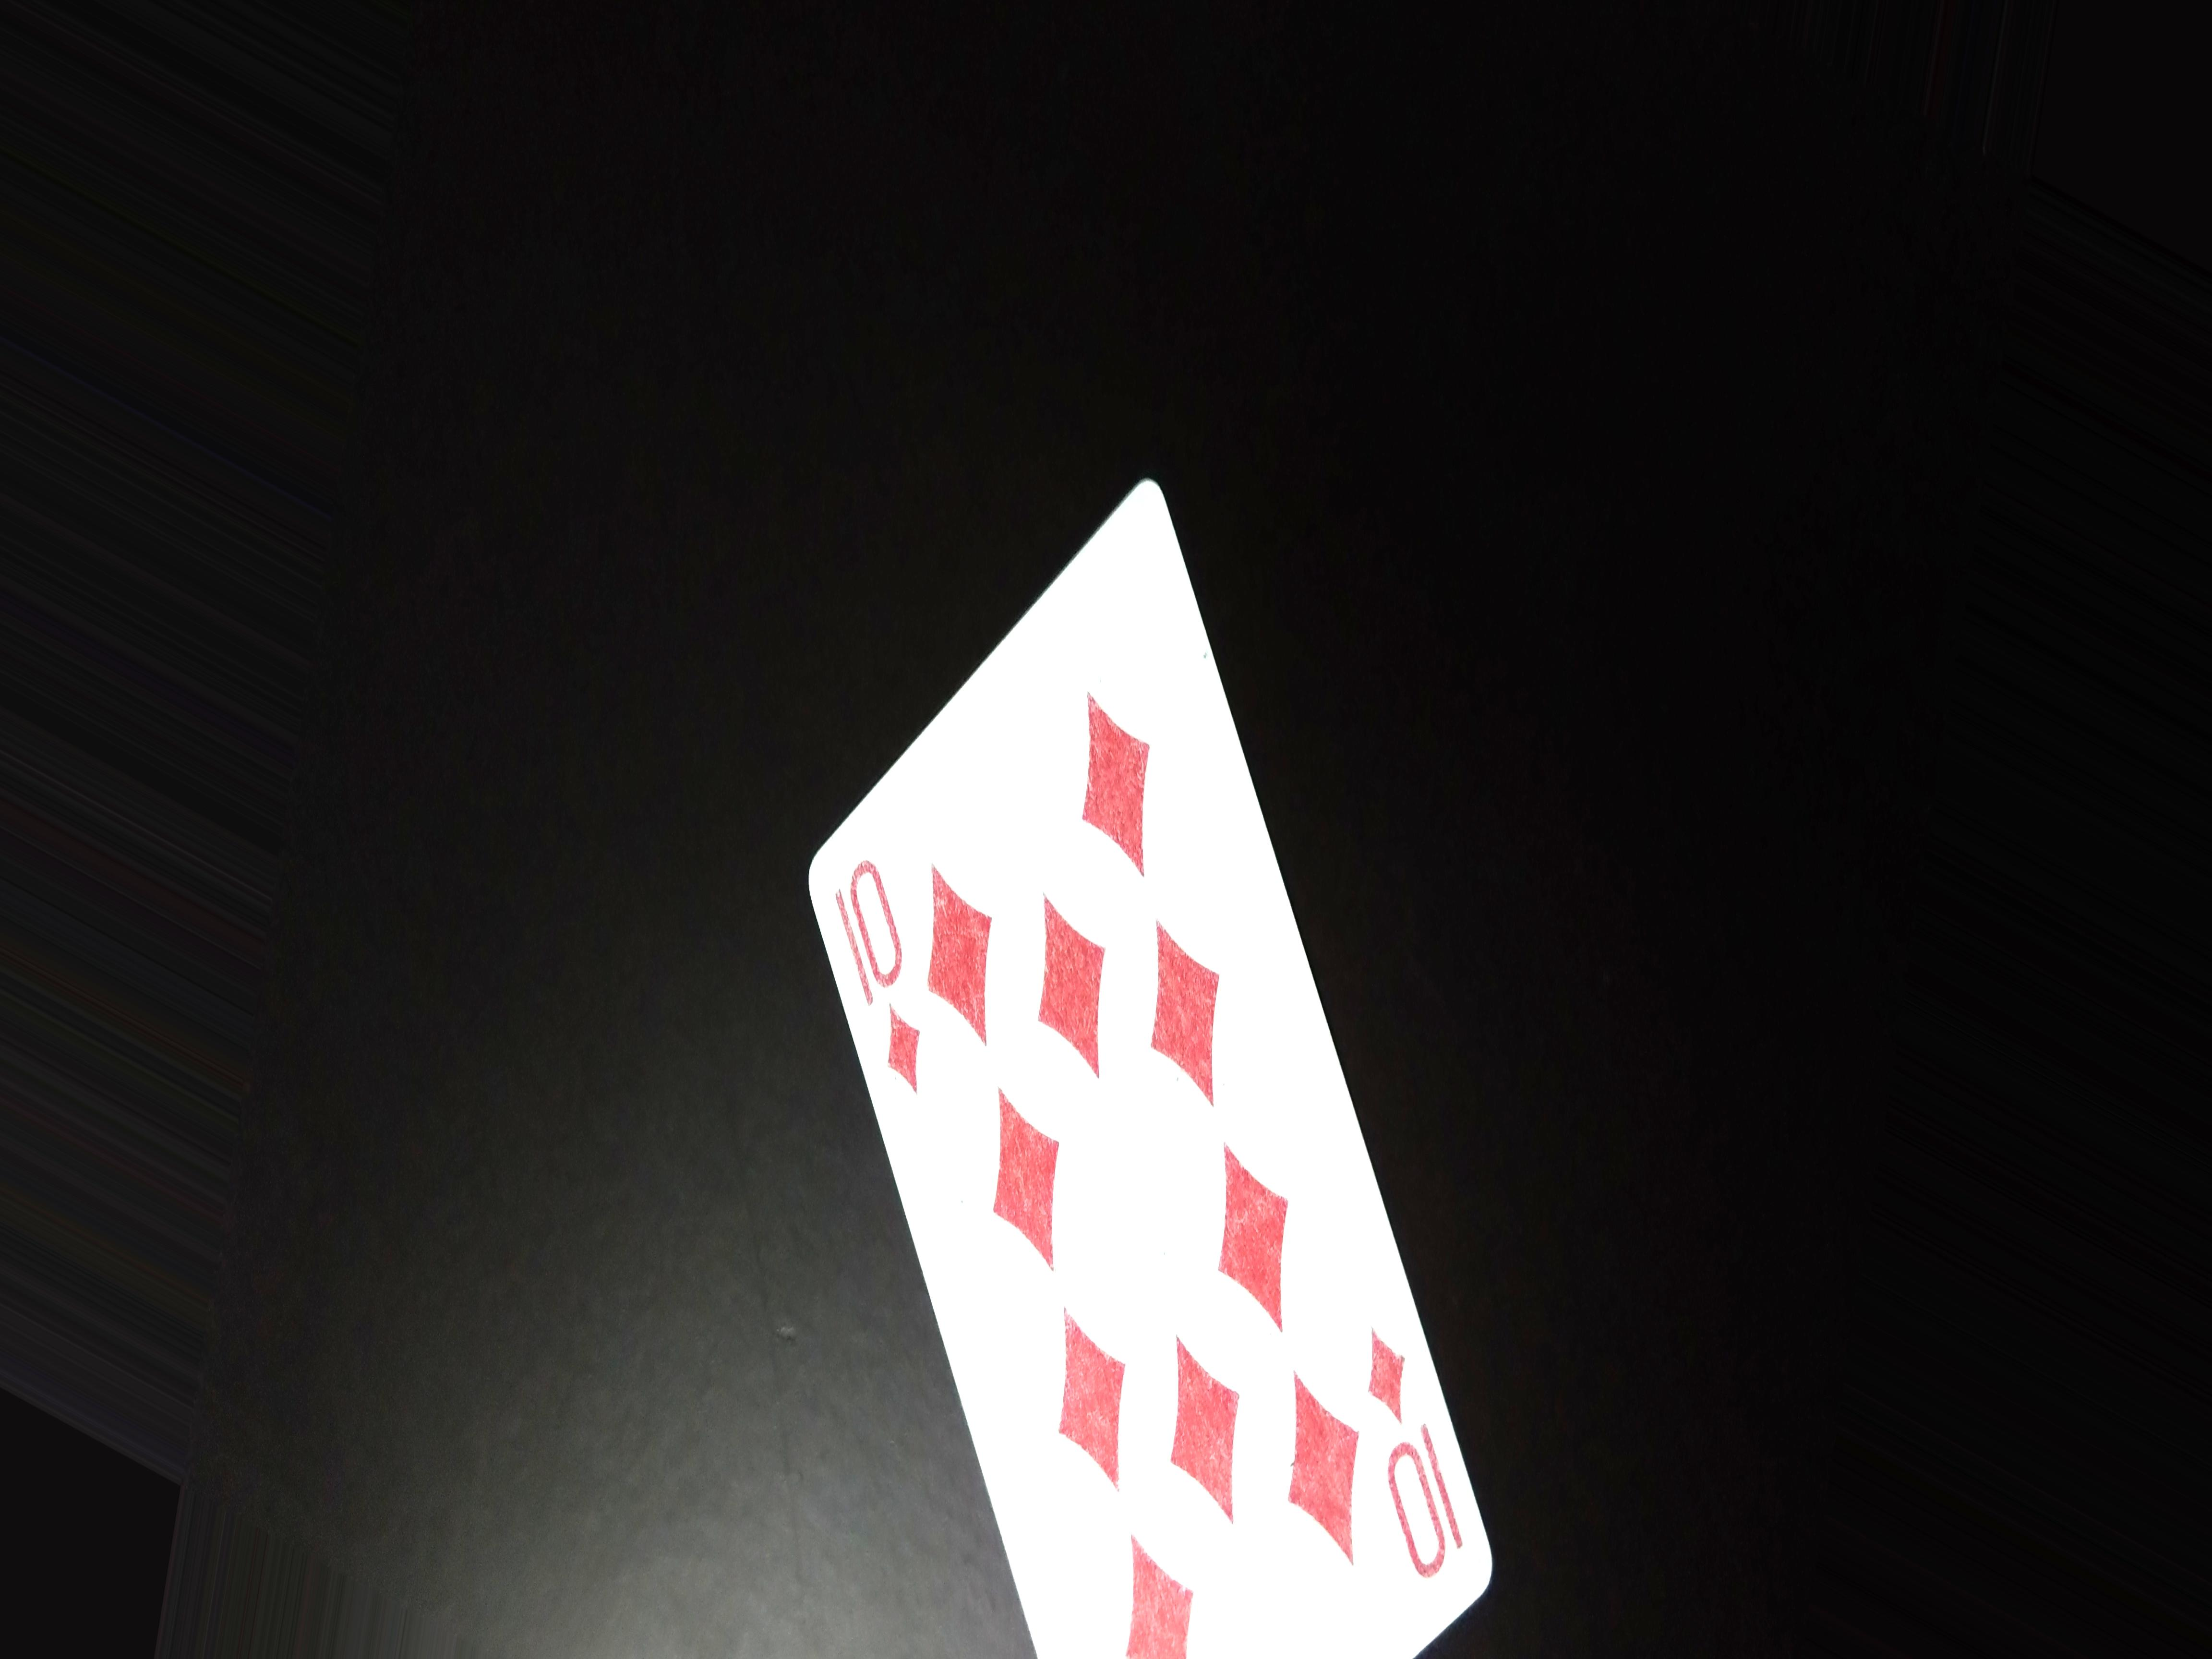10D: (1348, 1305, 1470, 1581)
